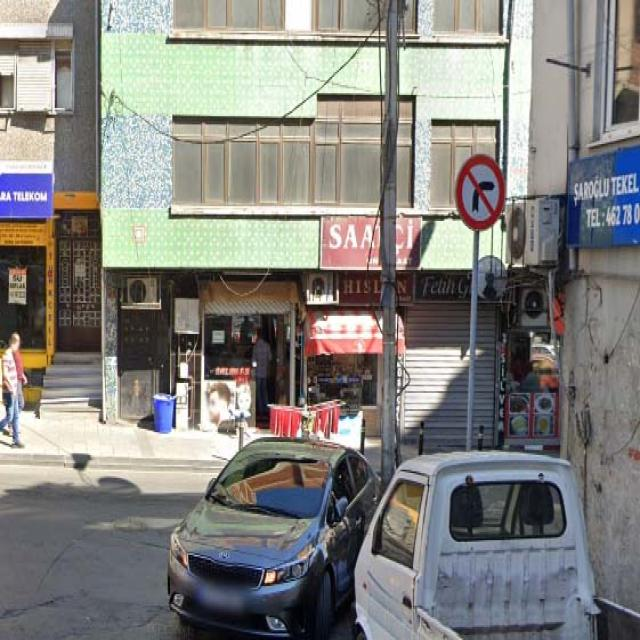sagadonulmez: (456, 155, 504, 231)
